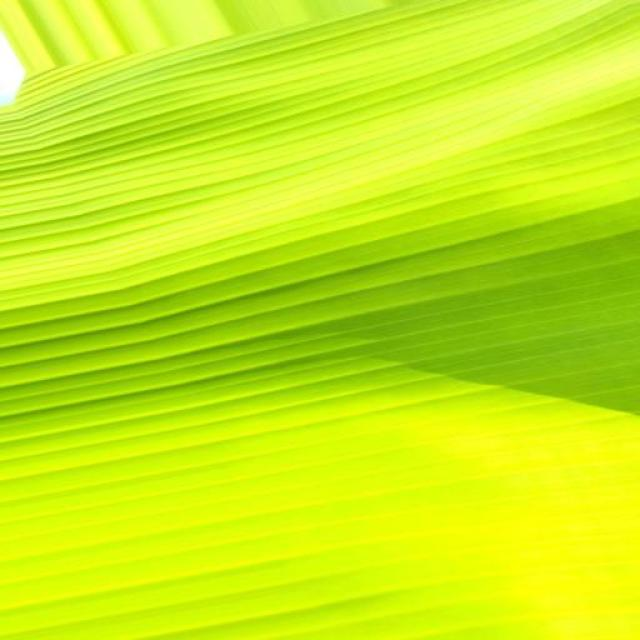Black_leaf_spot: (4, 25, 633, 500)
